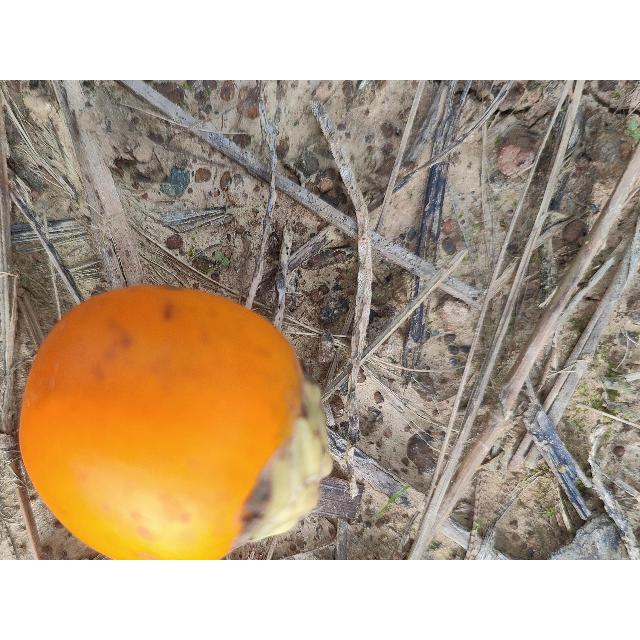good: (17, 285, 333, 560)
